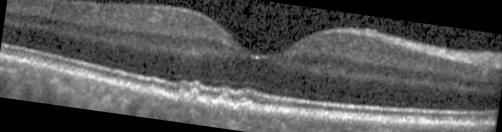retinal_drusen: (234, 104, 251, 114), (188, 91, 197, 104), (215, 102, 226, 111), (156, 93, 167, 100), (177, 94, 184, 103), (145, 89, 154, 96)
